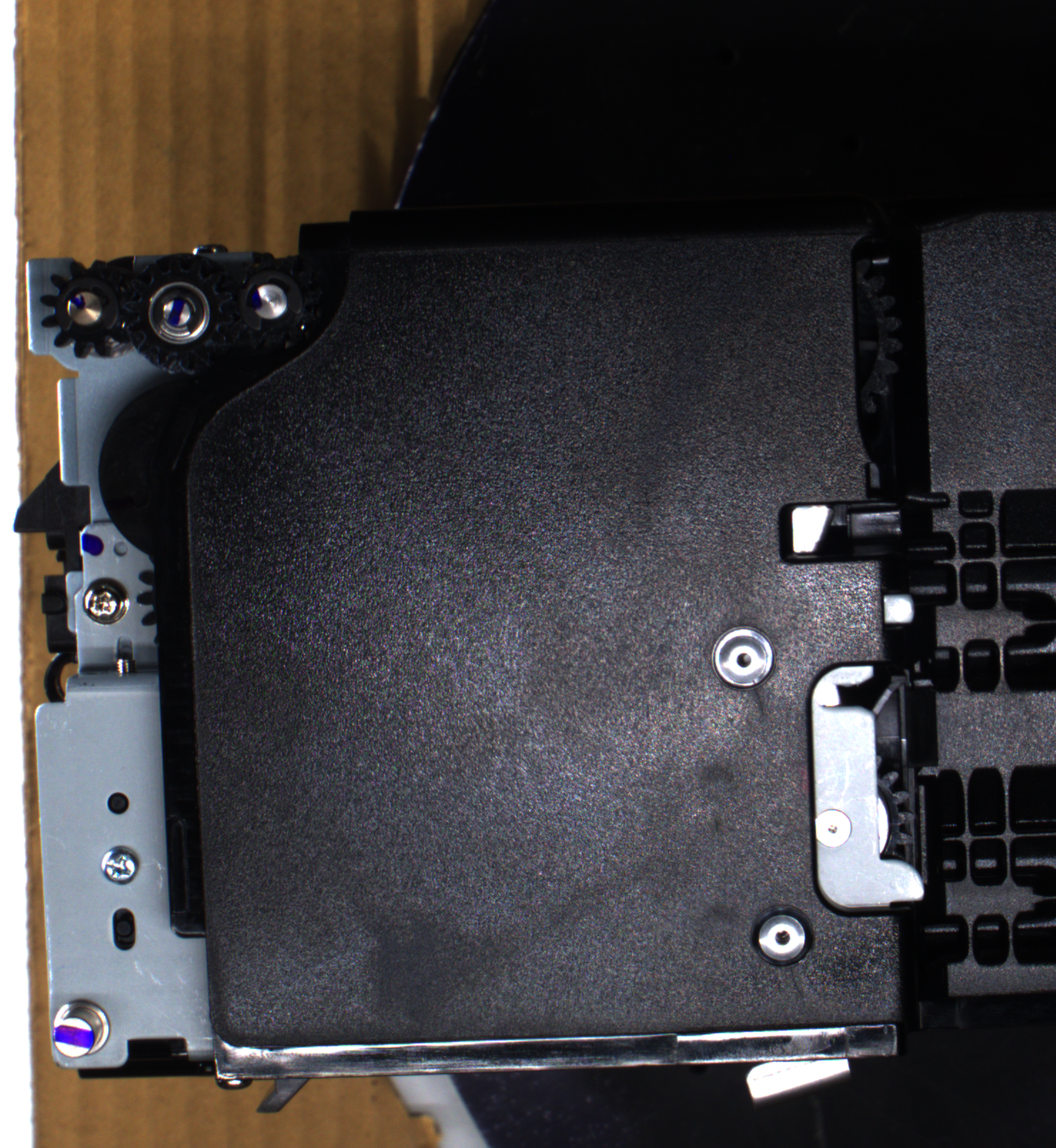centre_pin_presence: (739, 1043, 857, 1108)
centre_plate_presence: (804, 654, 936, 920)
centre_screw_presence: (707, 619, 780, 697), (745, 898, 818, 973)
gear1_presence: (38, 257, 140, 363)
gear2_presence: (122, 253, 234, 375)
gear3_presence: (215, 253, 316, 354)
side_screw_presence: (79, 574, 132, 627), (97, 843, 141, 885)
slanting_pin_presence: (47, 995, 119, 1065)
